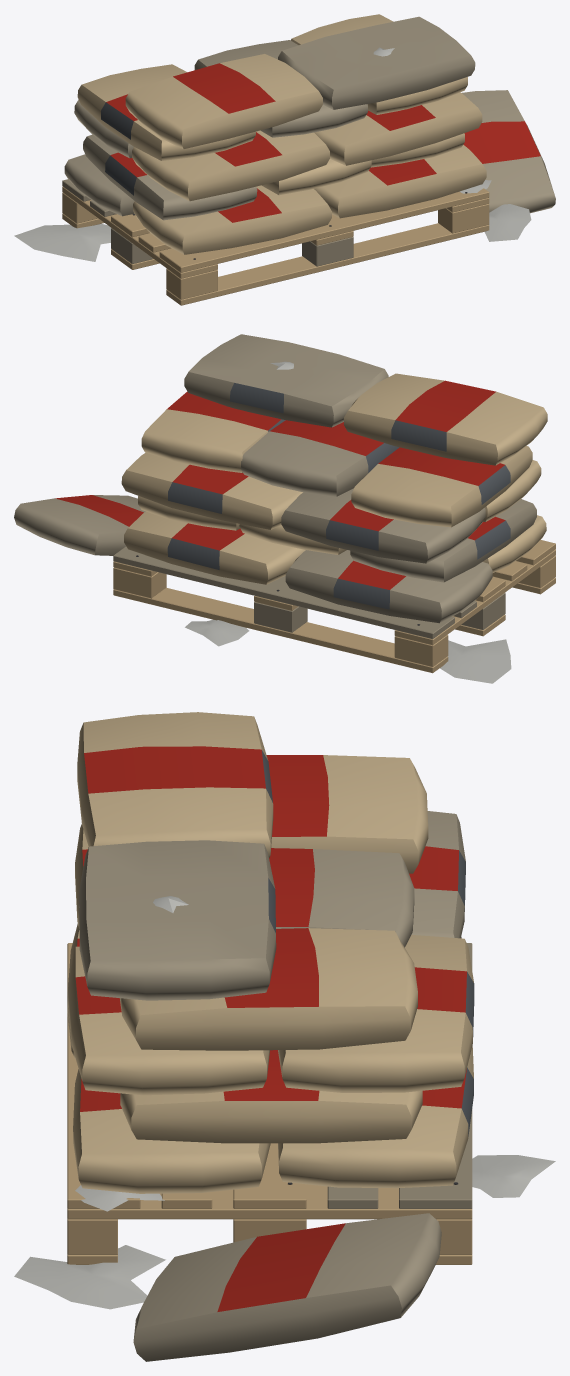
File: cement_bags.glb
The picture shows the model from 3 angles, top to bottom: view 1: azimuth 30°, elevation 25°; view 2: azimuth 150°, elevation 25°; view 3: azimuth 270°, elevation 25°; orthographic projection. The views are drawn at different scales.
Parts seen in each view (by area): view 1: teil3, teil6, teil0, teil4, teil7, teil1, teil5; view 2: teil6, teil3, teil4, teil0, teil5, teil1, teil7; view 3: teil3, teil6, teil4, teil0, teil7, teil1, teil5.
Part boxes in pixels (<box>): teil3: <box>77,14,486,254</box>; teil6: <box>64,16,555,220</box>; teil0: <box>62,186,489,305</box>; teil4: <box>106,63,540,222</box>; teil7: <box>14,47,531,261</box>; teil1: <box>62,179,353,266</box>; teil5: <box>101,102,136,195</box>; teil6: <box>14,334,536,623</box>; teil3: <box>121,373,547,584</box>; teil4: <box>55,380,505,589</box>; teil0: <box>113,540,555,673</box>; teil5: <box>167,383,510,609</box>; teil1: <box>113,546,505,639</box>; teil7: <box>185,361,511,683</box>; teil3: <box>67,712,473,1193</box>; teil6: <box>79,811,465,1361</box>; teil4: <box>75,746,466,1311</box>; teil0: <box>67,943,472,1264</box>; teil7: <box>14,896,555,1309</box>; teil1: <box>327,943,472,1208</box>; teil5: <box>261,750,474,1136</box>.
Bounding box in the file's own units: 1.86 × 0.7284 × 1.07.
